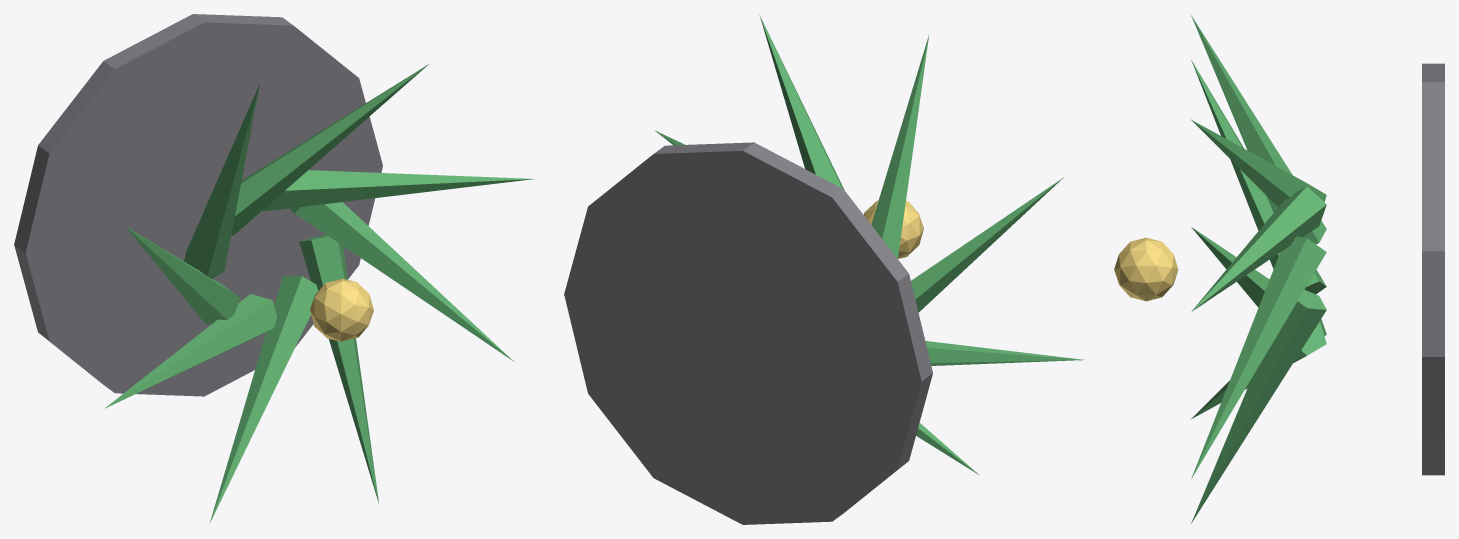
The model's file is rare_flower_patch.glb.
3 renders of one model, left to right at view 1: azimuth 30°, elevation 25°; view 2: azimuth 150°, elevation 25°; view 3: azimuth 270°, elevation 25°, orthographic.
Parts seen in each view (by area): view 1: dirt_patch, leaf_7, leaf_2, leaf_1, leaf_3, leaf_4, leaf_6, leaf_0, leaf_5, flower; view 2: dirt_patch, leaf_4, leaf_5, leaf_3, leaf_6, flower; view 3: dirt_patch, leaf_1, leaf_0, leaf_2, flower, leaf_4, leaf_3, leaf_5, leaf_6, leaf_7.
Boxes of the visible parts, <box> form: dirt_patch: <box>14,14,382,396</box>; leaf_7: <box>209,276,318,523</box>; leaf_2: <box>262,170,533,211</box>; leaf_1: <box>290,202,513,361</box>; leaf_3: <box>205,63,429,235</box>; leaf_4: <box>184,83,259,278</box>; leaf_6: <box>105,294,277,408</box>; leaf_0: <box>299,235,379,504</box>; leaf_5: <box>125,226,240,323</box>; flower: <box>310,278,373,341</box>; dirt_patch: <box>564,142,932,524</box>; leaf_4: <box>871,34,929,258</box>; leaf_5: <box>911,177,1063,312</box>; leaf_3: <box>759,15,844,189</box>; leaf_6: <box>925,341,1083,365</box>; flower: <box>864,200,923,258</box>; dirt_patch: <box>1422,63,1444,475</box>; leaf_1: <box>1191,236,1326,478</box>; leaf_0: <box>1191,289,1326,523</box>; leaf_2: <box>1191,186,1326,311</box>; flower: <box>1114,237,1178,301</box>; leaf_4: <box>1191,15,1326,244</box>; leaf_3: <box>1191,119,1326,207</box>; leaf_5: <box>1191,60,1326,294</box>; leaf_6: <box>1191,227,1326,336</box>; leaf_7: <box>1191,321,1326,419</box>.
Bounding box in the file's own units: 1.09 × 1.09 × 0.72.
